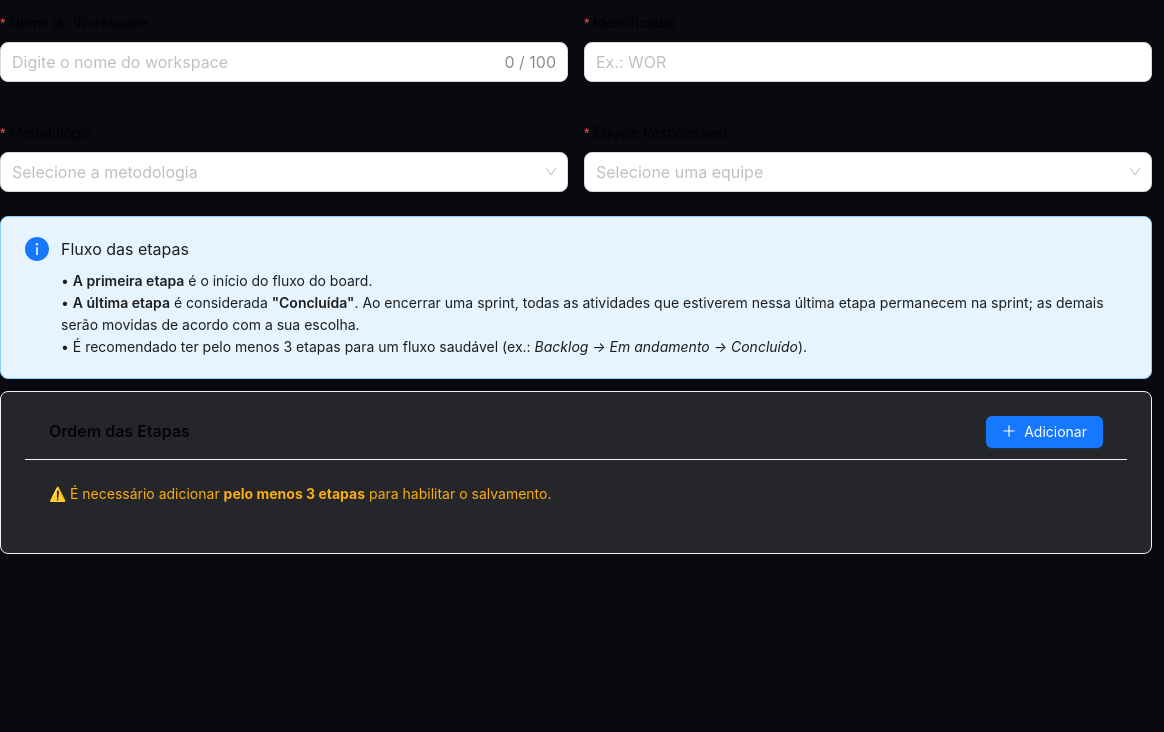
FormWorkspace › Campo Identificador › deve aceitar apenas letras
The image size is (1164, 732).
Type "ABC123" into the field with placeholder "Ex.: WOR".
click(868, 62); type("ABC123")  # box [584,42,1152,82]
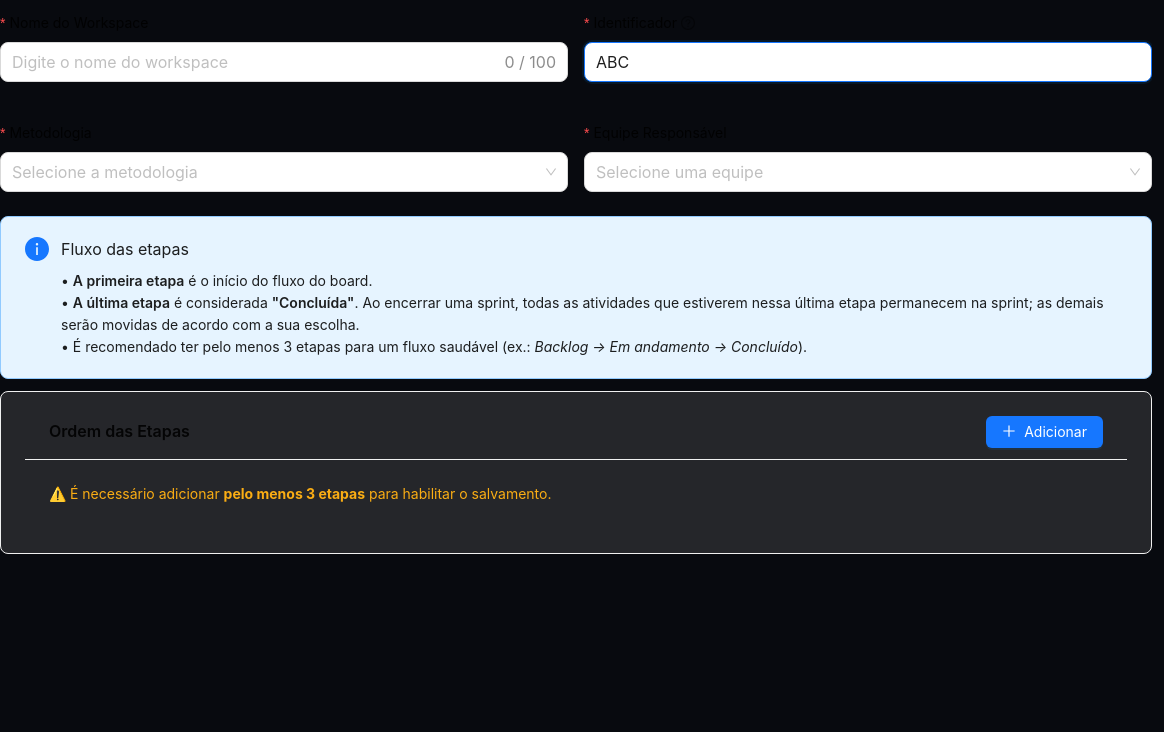
Expected: the field with placeholder "Ex.: WOR" holds "ABC", [584,42,1152,82]
